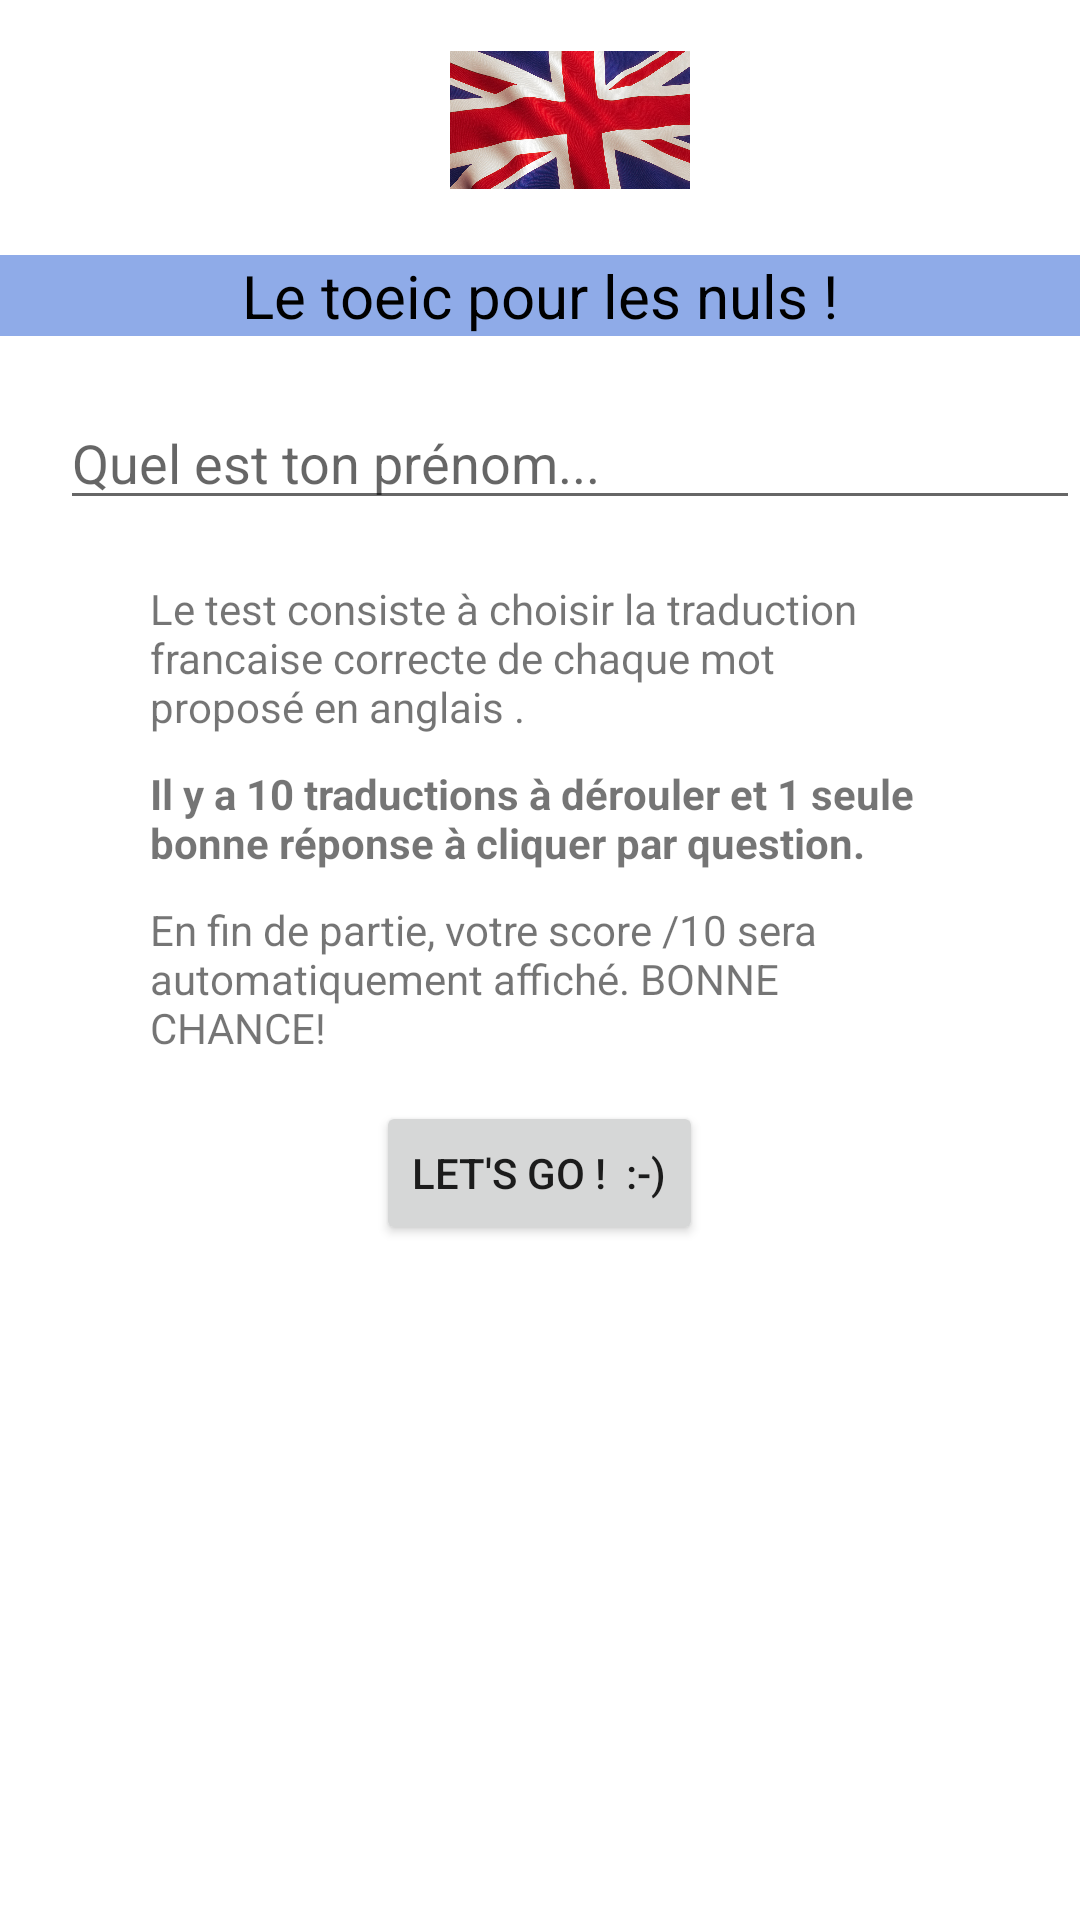

Where to tap for icons on this 1080w x 1920h app screen, as (x=x, y=y):
drapeauroyaumeuni: (x=570, y=120)
